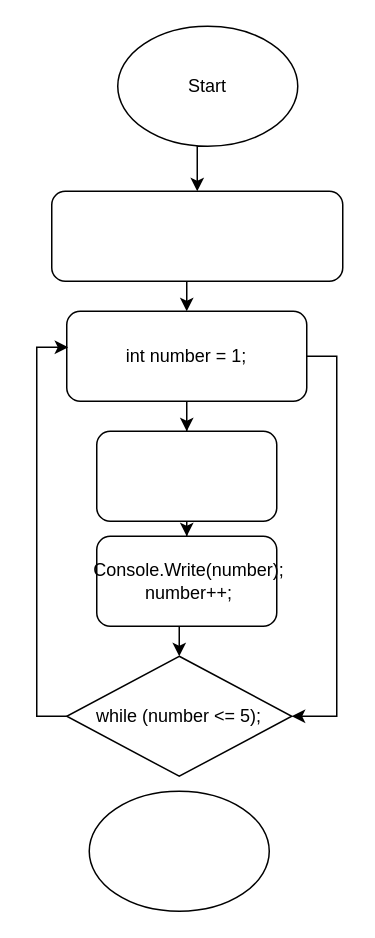
Some shapes in this 375 by 938 pixel diagram are drawn without their labels. The centre of each missing label's shape, as x and y in pixels:
Console.WriteLine("While ja do");: the point at 196,235
do: the point at 186,475
